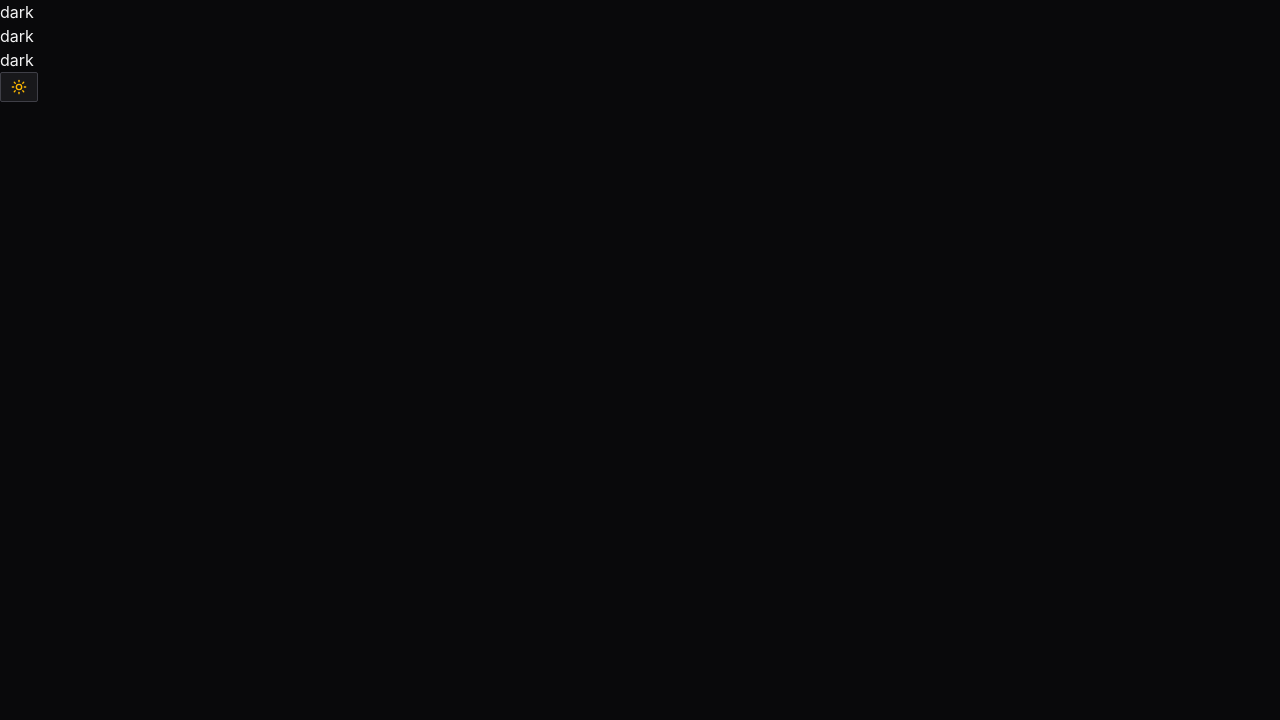
Theme Management System (TDS Suite) › Global Theme Application Across Multiple Components › synchronizes theme across multiple distinct consumer components simultaneously
// Trigger change
Click the button named "switch to" at (19, 87), box [0,72,38,102]
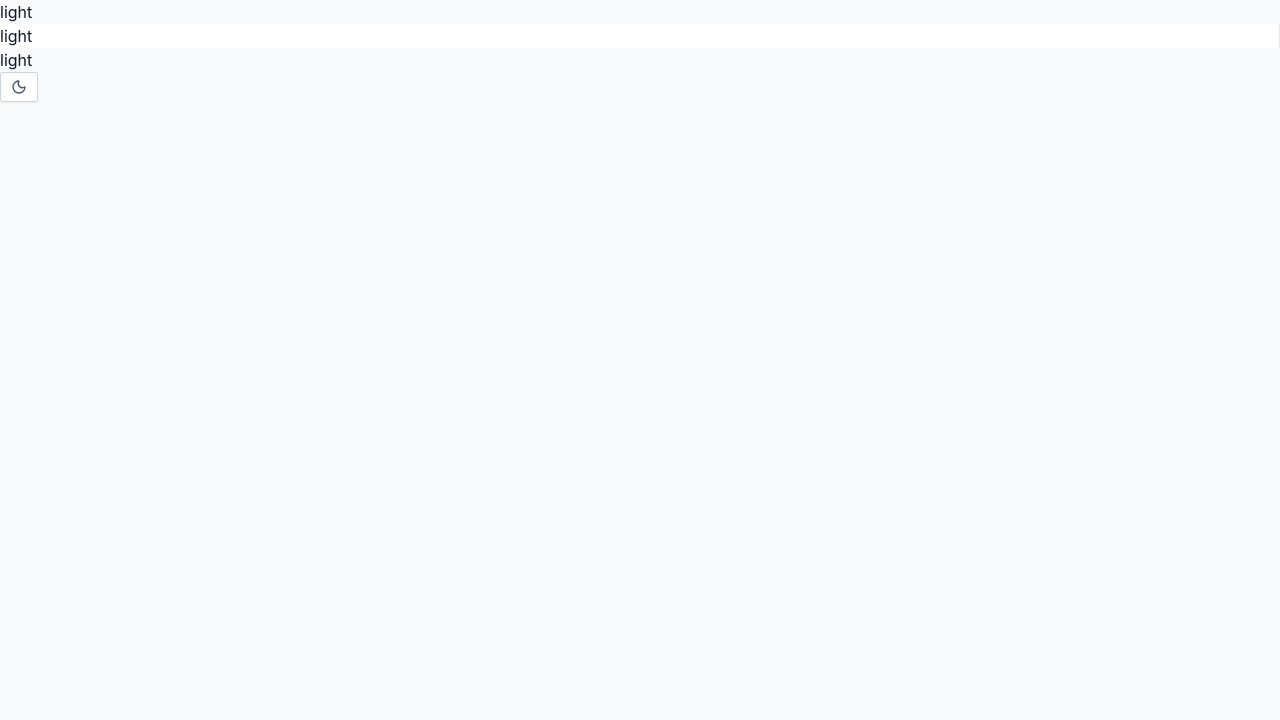
Expected: the header with test id "header-theme" reads "light", [0,2,32,22]
Expected: the text with test id "sidebar-theme" reads "light", [0,26,32,46]
Expected: the text with test id "dashboard-theme" reads "light", [0,50,32,70]
